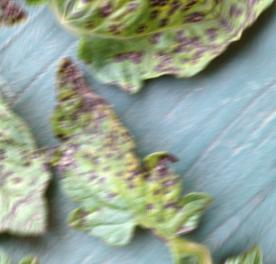Tomato Septoria leaf spot: (0, 41, 238, 264), (56, 0, 249, 135), (0, 80, 112, 247)
